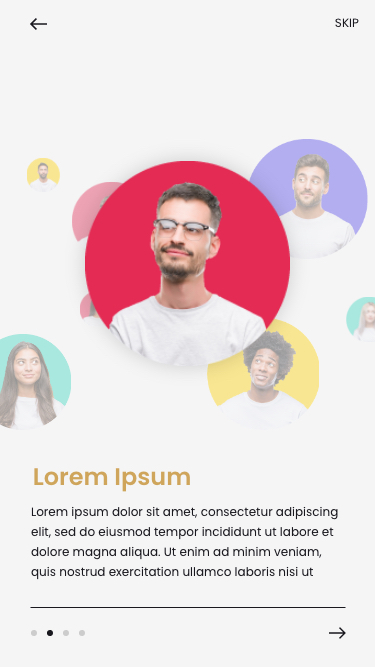Icon: (329, 626, 347, 640), (30, 18, 48, 31)
Image: (1, 139, 375, 430)
PageIndicator: (31, 629, 87, 637)
Text: (31, 506, 339, 580), (34, 467, 191, 492), (335, 18, 359, 29)
